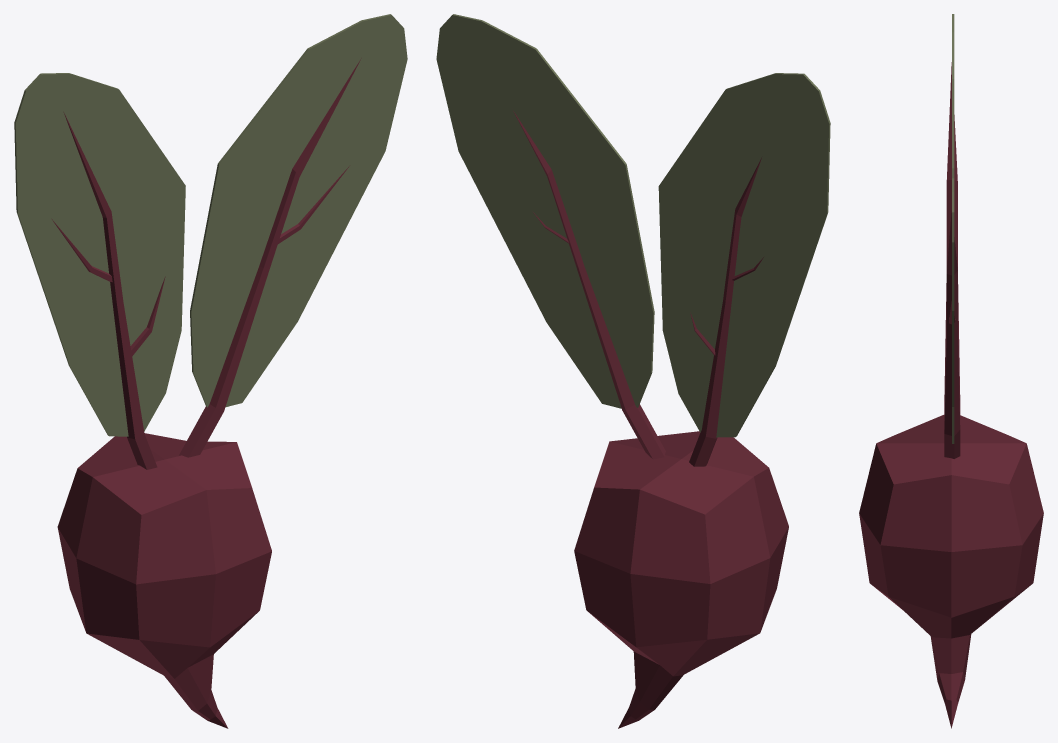
Rendered from Beet_3.glb.
The picture shows the model from 3 angles, left to right: view 1: azimuth 30°, elevation 25°; view 2: azimuth 150°, elevation 25°; view 3: azimuth 270°, elevation 25°; orthographic projection. The views are drawn at different scales.
Visible parts, largest first — view 1: Beet_3; view 2: Beet_3; view 3: Beet_3.
Boxes of the visible parts, x1,y1,x2,y2 form: Beet_3: (14, 14, 407, 728); Beet_3: (436, 14, 830, 728); Beet_3: (859, 14, 1043, 728).
Size of the model in its own units: 0.5093 by 0.8688 by 0.23.
